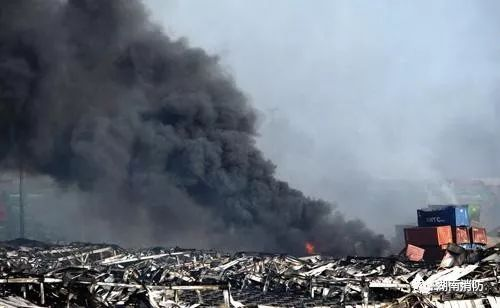smoke: (13, 19, 333, 256)
